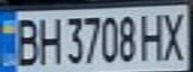0: (100, 12, 121, 63)
3: (63, 12, 84, 65)
7: (81, 12, 103, 65)
8: (118, 11, 142, 63)
B: (9, 15, 42, 66)
H: (136, 10, 169, 62), (33, 12, 63, 65)
X: (157, 8, 190, 62)
